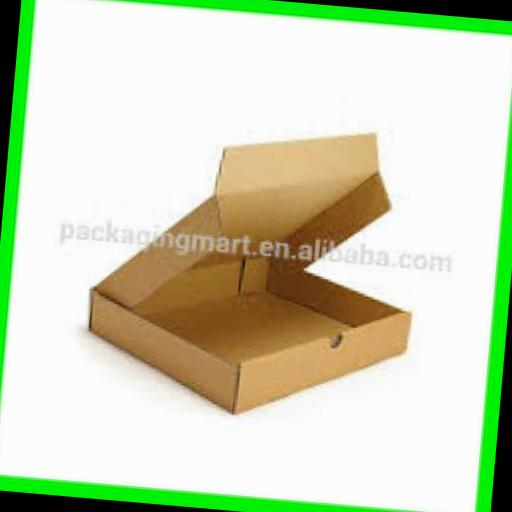cardboard: (80, 106, 425, 427)
